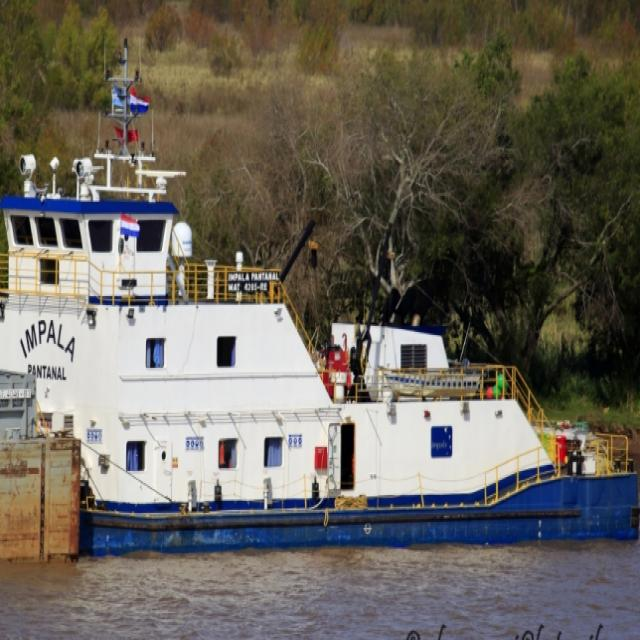tugboat: (1, 142, 640, 557)
